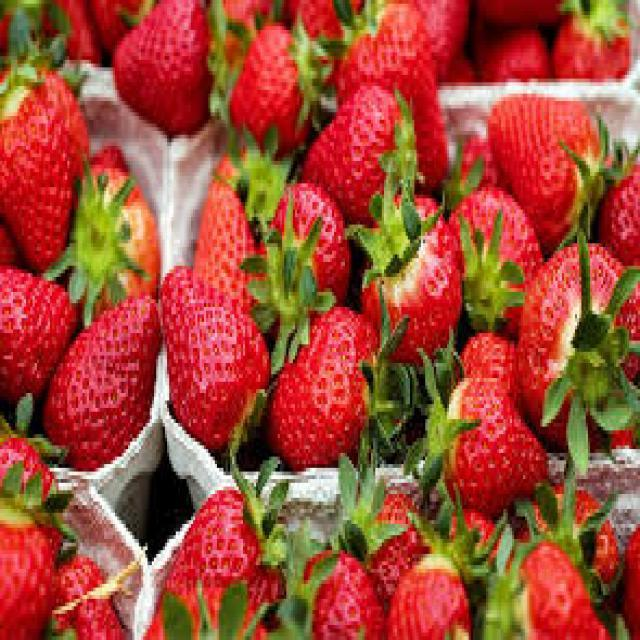Fruta sana: (523, 234, 640, 444), (438, 136, 546, 337), (154, 468, 280, 640), (162, 257, 272, 451), (341, 13, 464, 180), (490, 92, 612, 248), (360, 185, 466, 362), (53, 292, 166, 452), (274, 288, 373, 462), (304, 75, 416, 219), (0, 70, 76, 269), (486, 531, 612, 640), (110, 0, 214, 131), (452, 372, 548, 512), (71, 164, 159, 302), (0, 440, 62, 632), (270, 175, 354, 315), (194, 160, 270, 312), (228, 19, 314, 150), (0, 267, 79, 400), (363, 486, 448, 604), (302, 524, 384, 640), (388, 544, 476, 638), (43, 557, 121, 640), (552, 8, 639, 82), (601, 142, 640, 258), (484, 24, 542, 87)
